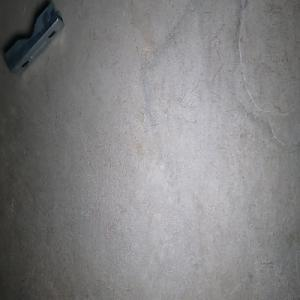ClampPart: (3, 1, 65, 76)
